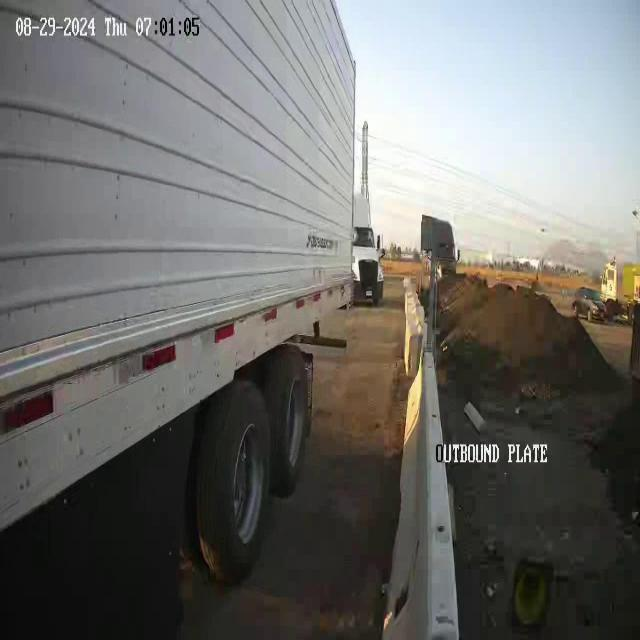TRUCK_OUT: (1, 1, 360, 584)
